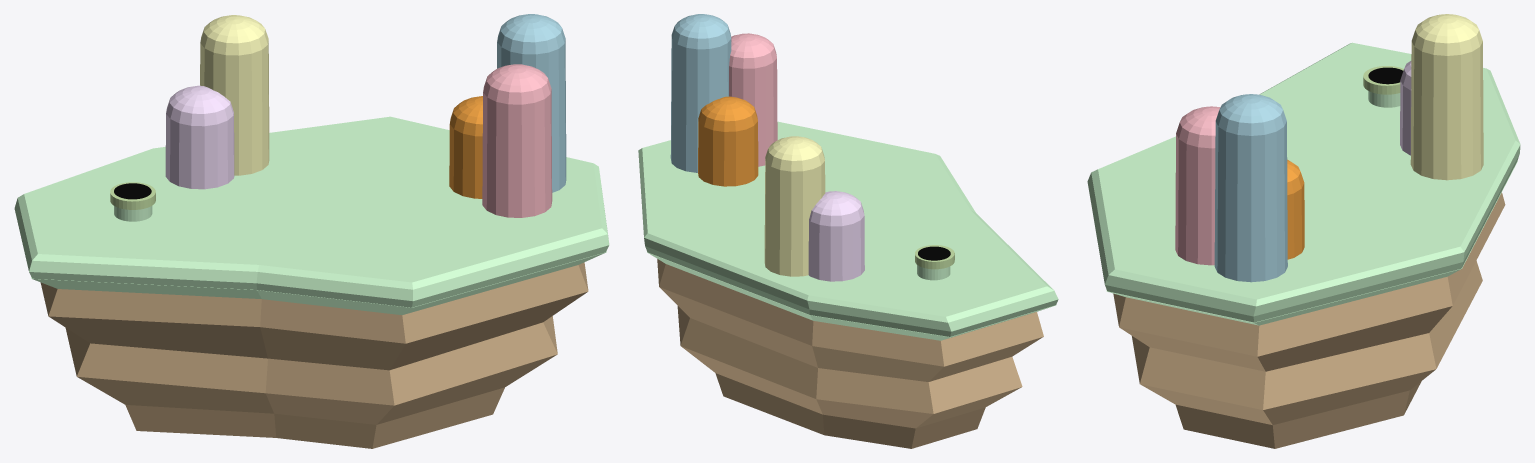
The model's file is worldn.gltf.
The picture shows the model from 3 angles, left to right: view 1: azimuth 30°, elevation 25°; view 2: azimuth 150°, elevation 25°; view 3: azimuth 270°, elevation 25°; orthographic projection. The views are drawn at different scales.
Visible parts, largest first — view 1: Cube, Sphere 4, Sphere, Sphere.003, Sphere 5, Sphere 2.001, Cylinder; view 2: Cube, Sphere, Sphere 5, Sphere 2.001, Sphere.003, Sphere 4, Cylinder; view 3: Cube, Sphere 5, Sphere, Sphere 4, Sphere 2.001, Sphere.003, Cylinder, Cylinder.001.
Boxes of the visible parts, x1,y1,x2,y2 form: Cube: (14,116,609,448); Sphere 4: (482,64,552,217); Sphere: (200,15,269,175); Sphere.003: (165,85,234,189); Sphere 5: (497,14,566,192); Sphere 2.001: (449,96,482,198); Cylinder: (110,182,155,209); Cube: (638,121,1058,448); Sphere: (764,136,825,276); Sphere 5: (670,14,731,172); Sphere 2.001: (698,96,758,186); Sphere.003: (808,191,864,281); Sphere 4: (729,33,777,166); Cylinder: (915,245,954,269); Cube: (1087,42,1520,448); Sphere 5: (1214,94,1287,282); Sphere: (1410,14,1483,180); Sphere 4: (1175,106,1220,265); Sphere 2.001: (1287,159,1304,259); Sphere.003: (1400,61,1411,155); Cylinder: (1363,66,1403,94); Cylinder.001: (1368,67,1403,84).
Size of the model in its own units: 13.73 by 8.85 by 9.48.
